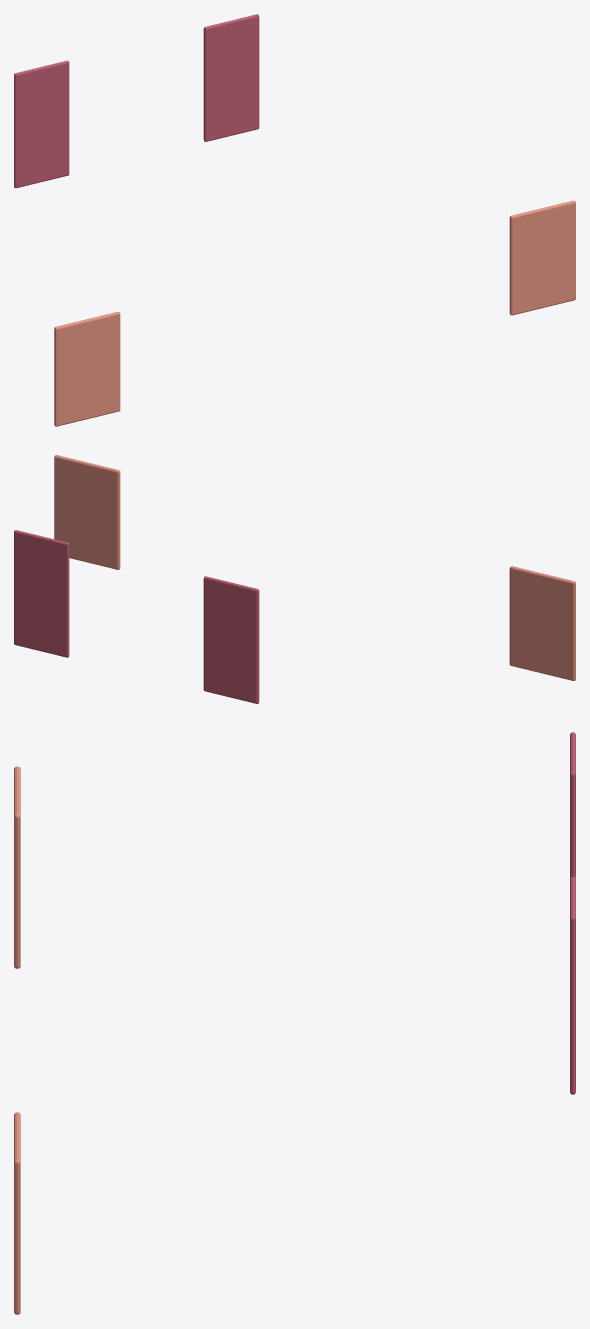
The model's file is roman_arena_decor.glb.
The picture shows the model from 3 angles, top to bottom: view 1: azimuth 30°, elevation 25°; view 2: azimuth 150°, elevation 25°; view 3: azimuth 270°, elevation 25°; orthographic projection. The views are drawn at different scales.
Parts seen in each view (by area): view 1: decor-Sunlit Crimson, decor-Roman Crimson; view 2: decor-Sunlit Crimson, decor-Roman Crimson; view 3: decor-Sunlit Crimson, decor-Roman Crimson.
Part boxes in pixels (box(x1,y1,x2,y2)): decor-Sunlit Crimson: box(54, 200, 575, 426); decor-Roman Crimson: box(14, 14, 259, 188); decor-Sunlit Crimson: box(54, 455, 575, 680); decor-Roman Crimson: box(14, 530, 259, 703); decor-Sunlit Crimson: box(14, 766, 20, 1314); decor-Roman Crimson: box(570, 732, 575, 1094).
Size of the model in its own units: 12.35 by 4.27 by 7.42.
